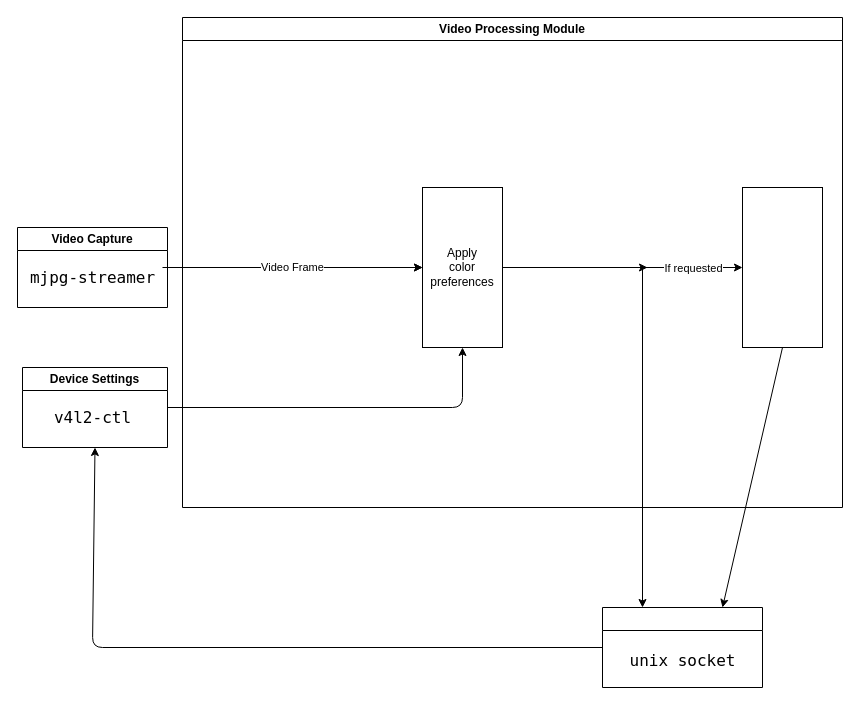
Image size: 860x705. Some labels were removed from this diagram. The shapes that lost their labels are listed below. From the top down, each one's box as (x1, y1, x2, y2) in pixels, then its label:
(742, 186, 822, 348): To SVG
(602, 606, 762, 688): Http Server
